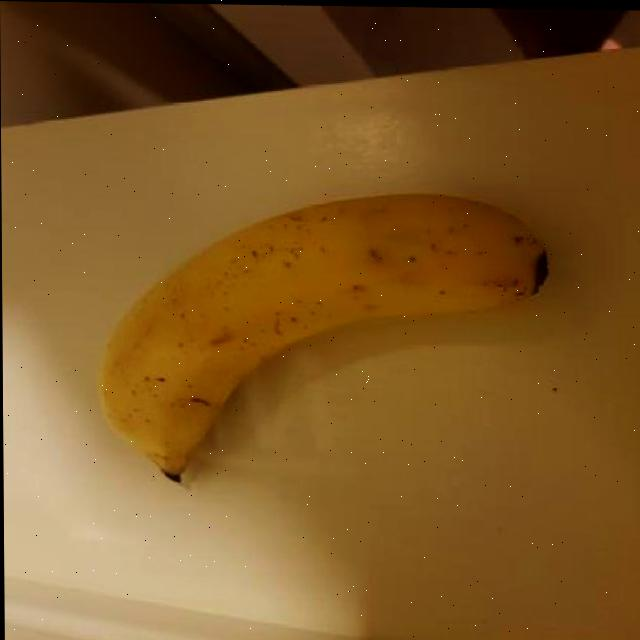banana: (87, 185, 555, 500)
